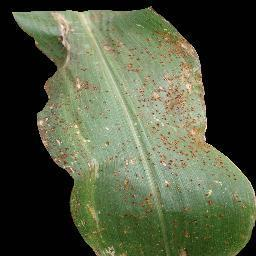Corn_Common_Rust: (97, 8, 210, 256), (24, 9, 95, 181), (210, 140, 256, 256), (67, 180, 96, 254)
